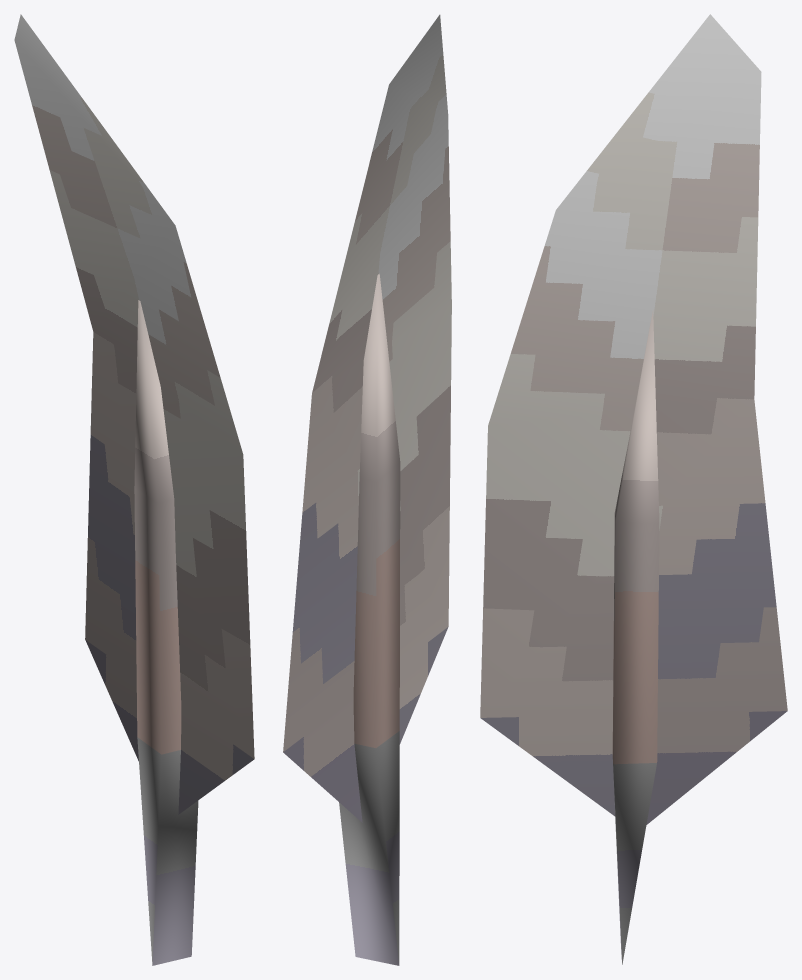
Rendered from feather.fbx.
3 views of the same model, side by side, from view 1: azimuth 30°, elevation 25°; view 2: azimuth 150°, elevation 25°; view 3: azimuth 270°, elevation 25° (orthographic). The views are drawn at different scales.
Visible parts, largest first — view 1: Feather; view 2: Feather; view 3: Feather.
Part boxes in pixels (bbox=[...]): Feather: bbox=[14, 14, 254, 965]; Feather: bbox=[283, 14, 451, 965]; Feather: bbox=[480, 14, 787, 964].
Bounding box in the file's own units: 13.11 × 91.16 × 28.42.
Materials: 1 (1 with a texture image).
